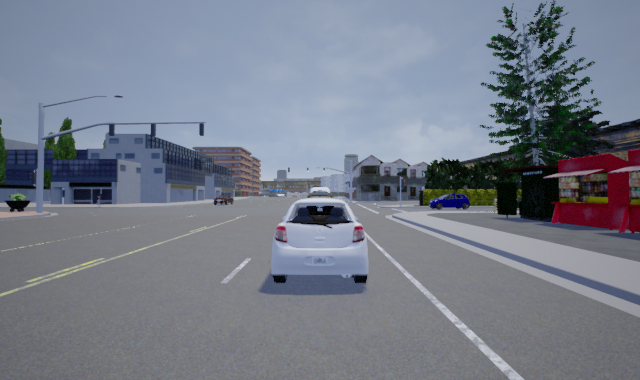vehicle: (269, 198, 368, 284), (306, 190, 336, 213), (430, 194, 471, 210), (213, 192, 234, 206), (309, 185, 331, 197)
